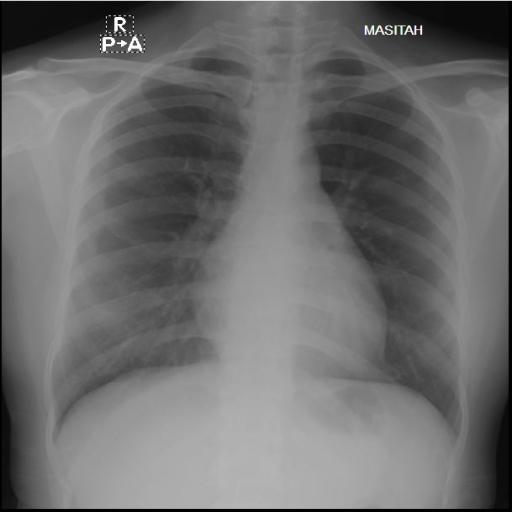normal: (28, 17, 475, 449)
